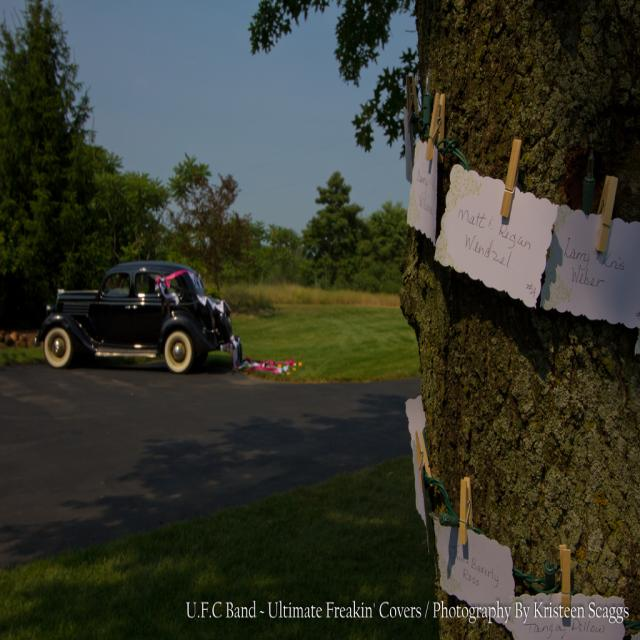car: (24, 256, 239, 379)
